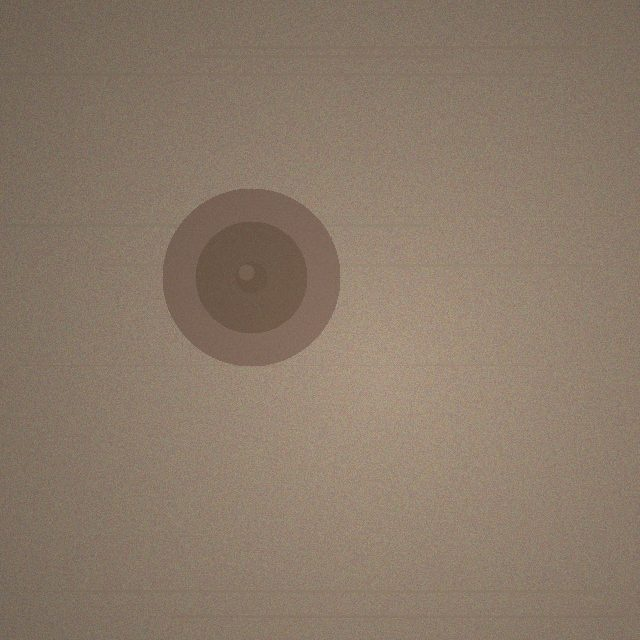good: (162, 188, 340, 366)
